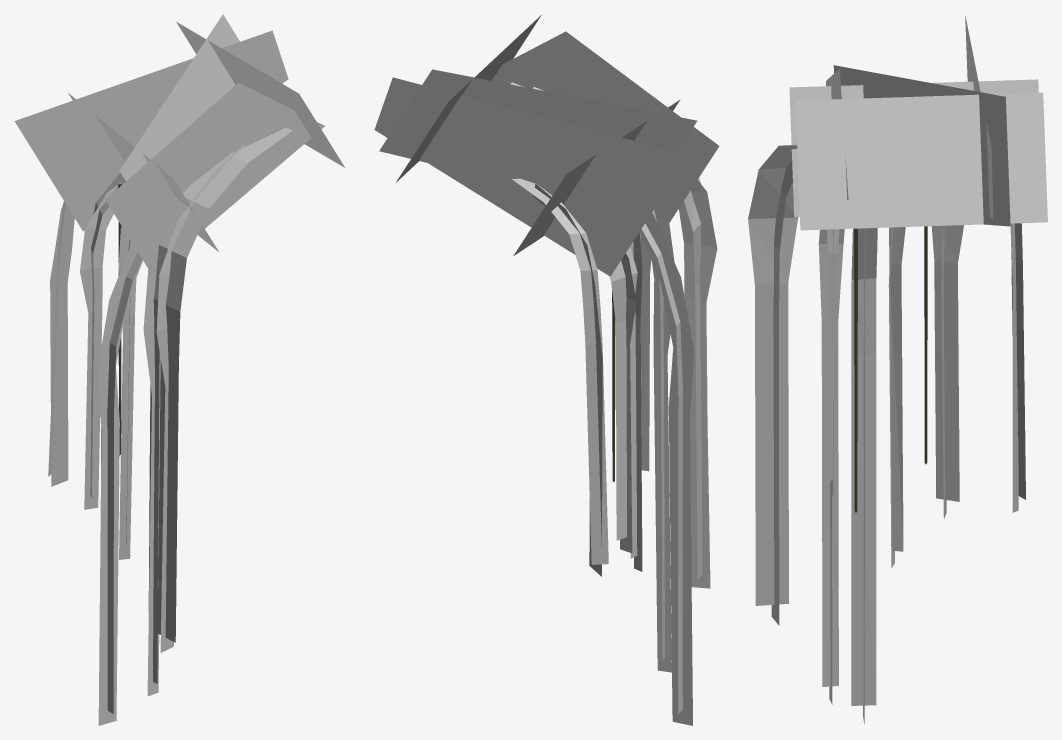
Rendered from ADDON_PLANTS_HANGPLANTS_01_374P.OBJ.
3 renders of one model, left to right at view 1: azimuth 30°, elevation 25°; view 2: azimuth 150°, elevation 25°; view 3: azimuth 270°, elevation 25°, orthographic. The views are drawn at different scales.
Parts seen in each view (by area): view 1: ADDON_PLANTS_HANGPLANTS_01_374P; view 2: ADDON_PLANTS_HANGPLANTS_01_374P; view 3: ADDON_PLANTS_HANGPLANTS_01_374P.
Boxes of the visible parts, bbox=[...] form: ADDON_PLANTS_HANGPLANTS_01_374P: bbox=[14, 14, 344, 725]; ADDON_PLANTS_HANGPLANTS_01_374P: bbox=[374, 15, 719, 725]; ADDON_PLANTS_HANGPLANTS_01_374P: bbox=[748, 16, 1047, 724].
Bounding box in the file's own units: 7.22 × 14.99 × 5.63.
